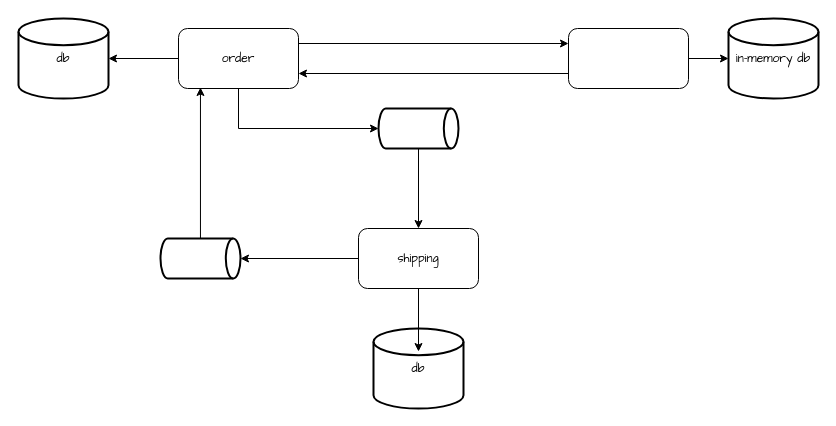
This 836x426 diagram has some shape labels left out. The shapes that lost their labels are listed below. From the top down, each one's box as (x1, y1, x2, y2) in pixels, then its label:
(568, 28, 688, 88): inventory
(377, 107, 459, 149): kafka prod.orders.placed
(159, 237, 241, 279): kafka prod.orders.shipped
